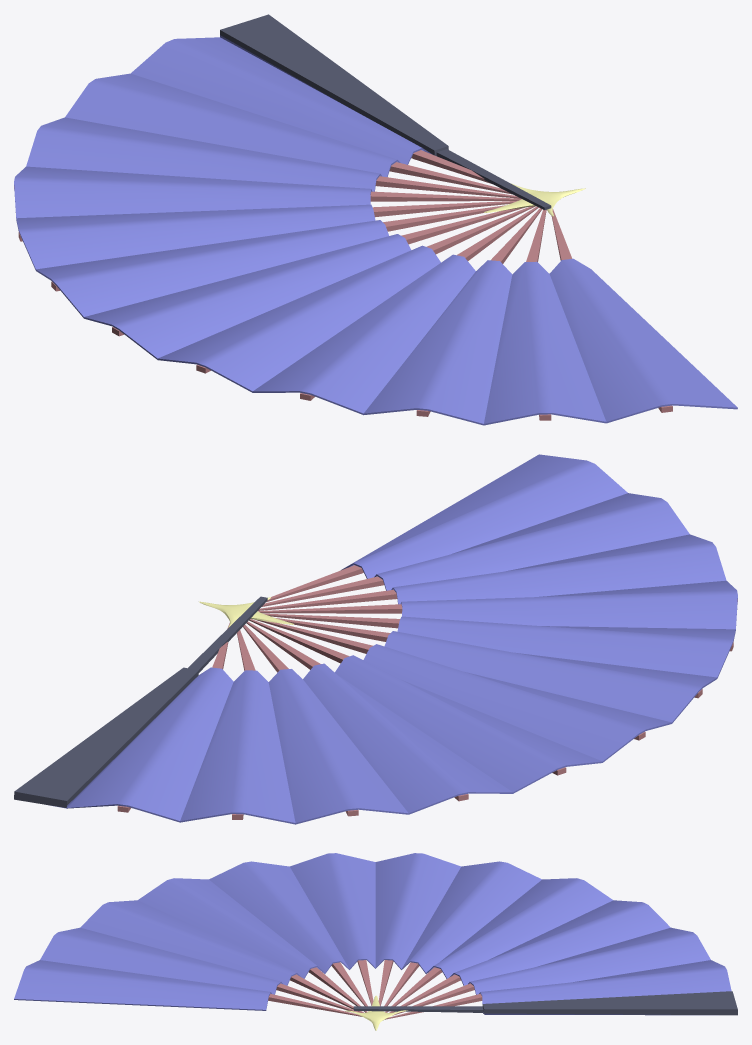
The model's file is leque.fbx.
3 renders of one model, top to bottom at view 1: azimuth 30°, elevation 25°; view 2: azimuth 150°, elevation 25°; view 3: azimuth 270°, elevation 25°, orthographic. The views are drawn at different scales.
Visible parts, largest first — view 1: PolySphere15.001; view 2: PolySphere15.001; view 3: PolySphere15.001.
Boxes of the visible parts, x1,y1,x2,y2 form: PolySphere15.001: [14, 14, 737, 425]; PolySphere15.001: [14, 454, 737, 824]; PolySphere15.001: [14, 853, 737, 1030].
Size of the model in its own units: 1.62 by 0.0446 by 2.87.
